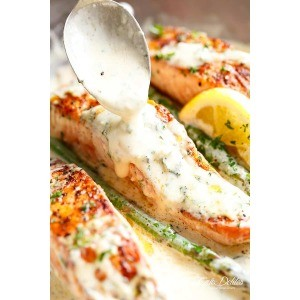salmon_brain food: (68, 121, 227, 281)
